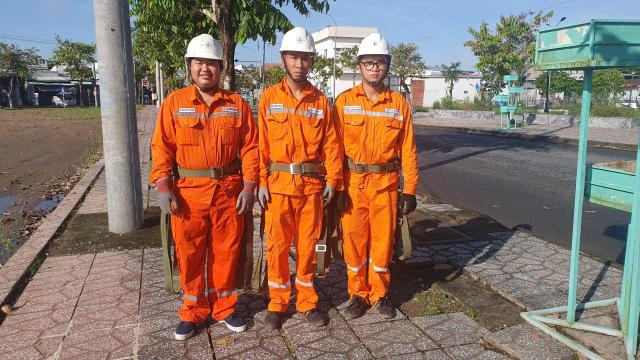harness: (168, 158, 249, 184), (260, 150, 326, 181), (337, 146, 404, 176), (153, 187, 182, 222), (251, 178, 278, 211), (235, 183, 255, 212), (329, 185, 349, 214), (396, 189, 416, 214), (320, 180, 336, 207)
helmet: (180, 34, 238, 72), (274, 23, 328, 60), (354, 26, 396, 62)
shoes: (215, 304, 247, 334), (296, 300, 327, 330), (172, 312, 200, 344), (368, 291, 398, 320), (258, 306, 288, 334), (341, 292, 368, 320)
